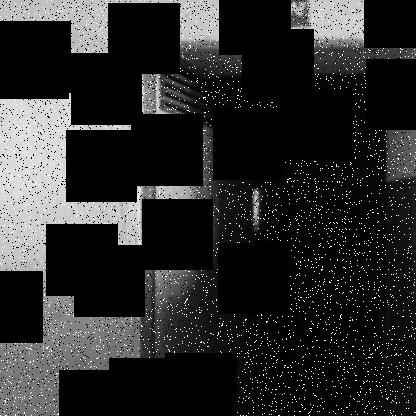Porte: (152, 48, 388, 415)
